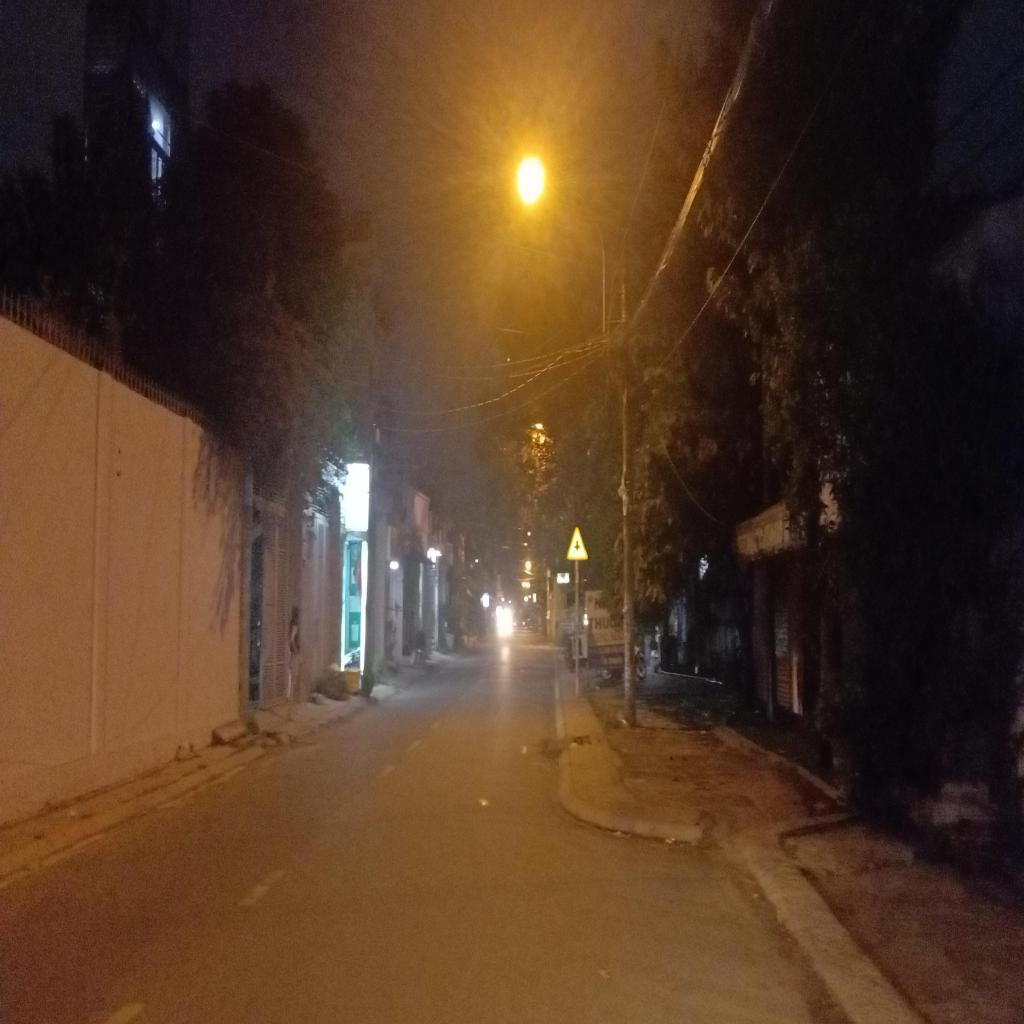giao_nhau_voi_duong_khong_uu_tien: (566, 524, 588, 559)
